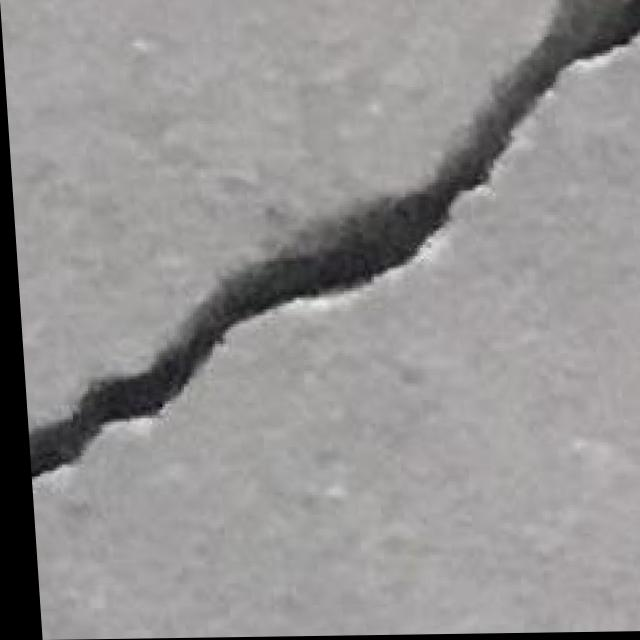Crack: (1, 9, 640, 510)
